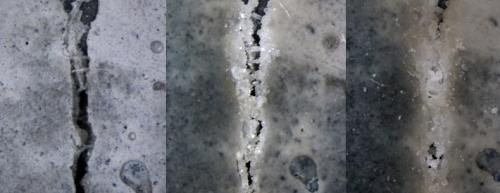Crack: (55, 0, 112, 193), (228, 0, 278, 193)
